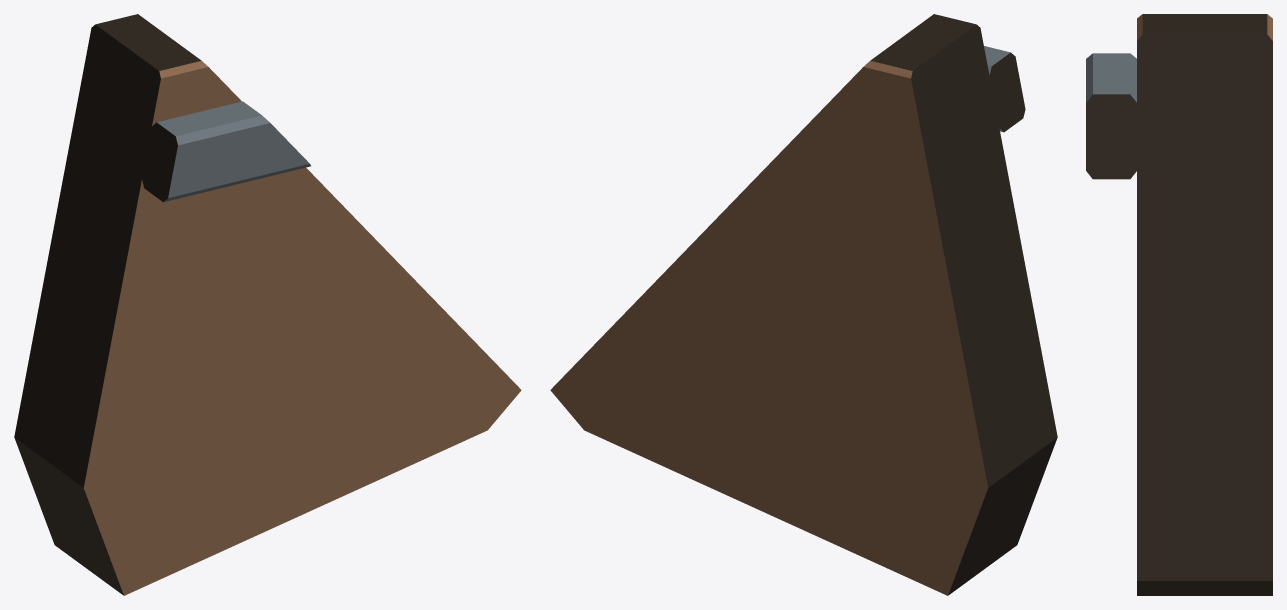
Rendered from SM_DoorShard_02_50.fbx.
The picture shows the model from 3 angles, left to right: view 1: azimuth 30°, elevation 25°; view 2: azimuth 150°, elevation 25°; view 3: azimuth 270°, elevation 25°; orthographic projection. The views are drawn at different scales.
Visible parts, largest first — view 1: SM_DoorShard_02_50; view 2: SM_DoorShard_02_50; view 3: SM_DoorShard_02_50.
Boxes of the visible parts, left/top/right/bottom form: SM_DoorShard_02_50: left=14, top=14, right=521, bottom=595; SM_DoorShard_02_50: left=550, top=14, right=1057, bottom=595; SM_DoorShard_02_50: left=1086, top=14, right=1272, bottom=595.
Size of the model in its own units: 58.22 by 22 by 65.23.
